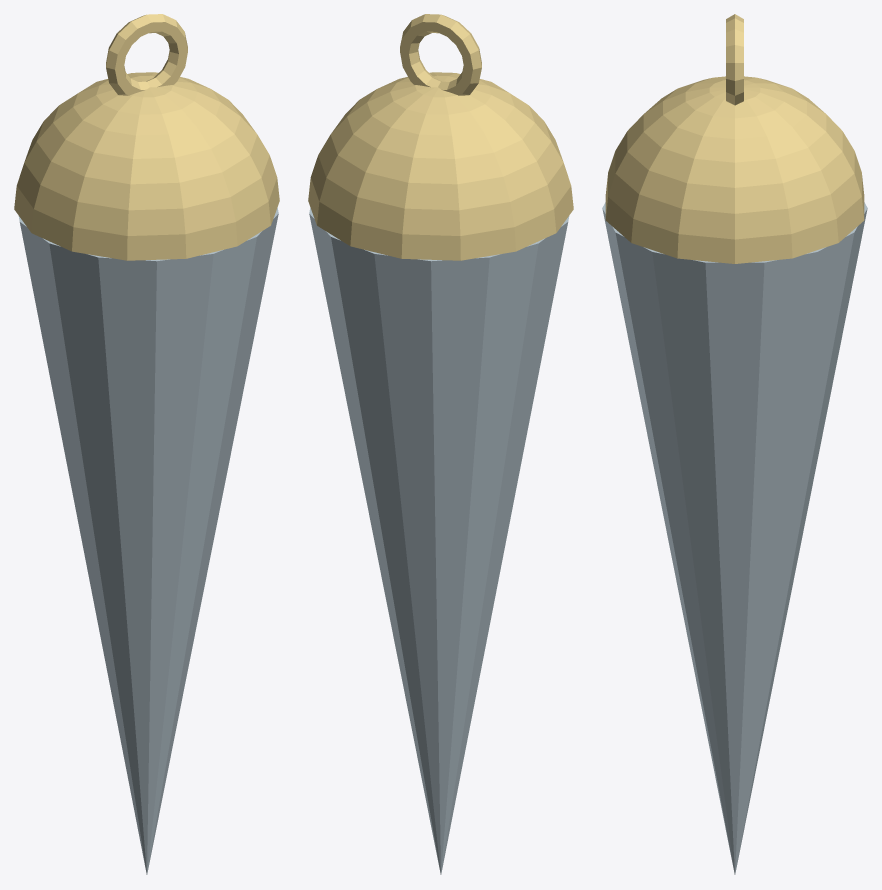
The model's file is icicle-ice-4in.glb.
3 views of the same model, side by side, from view 1: azimuth 30°, elevation 25°; view 2: azimuth 150°, elevation 25°; view 3: azimuth 270°, elevation 25° (orthographic).
Visible parts, largest first — view 1: icicle; view 2: icicle; view 3: icicle.
Boxes of the visible parts, box(x1,y1,x2,y2) form: icicle: box(14, 14, 279, 874); icicle: box(308, 14, 573, 874); icicle: box(602, 14, 867, 874).
Bounding box in the file's own units: 0.0285 × 0.1016 × 0.0285.
